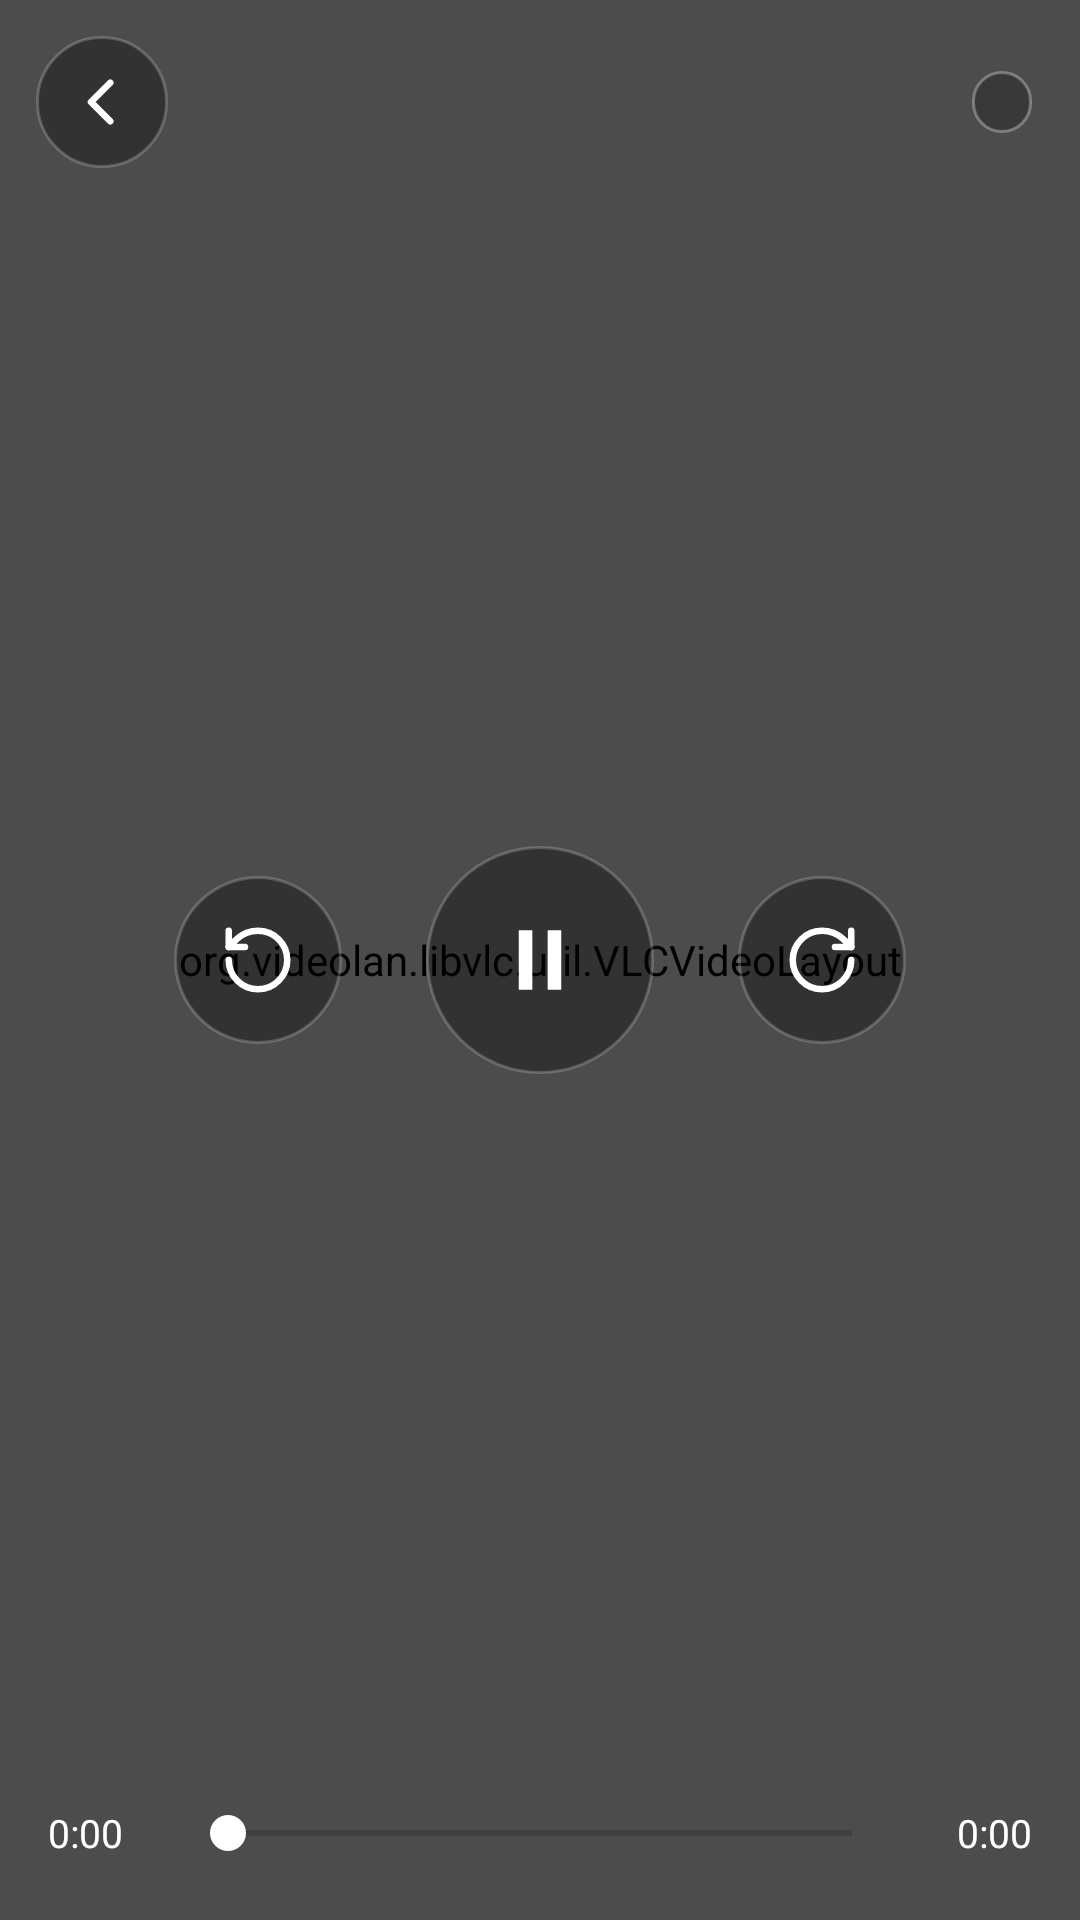

Screen size 1080w x 1920h. Icon name, then its box in pixels as (x1, y1, x2, y2):
Back: (36, 36, 168, 168)
